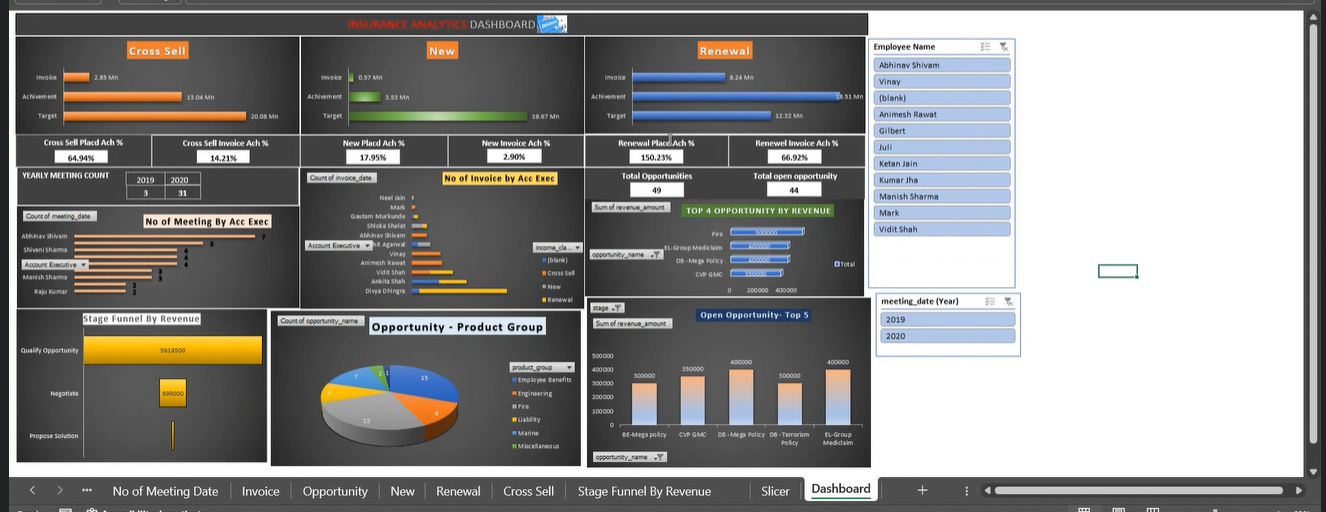

The dashboard page shown, as its layout file describes it:
{"tool":"tableau","page":{"name":"Dashboard 1","canvas":[1000,1000],"units":"permille","ordinal":0},"visuals":[{"type":"title","box":[6.9,14.7,986.1,68]},{"type":"worksheet","title":"Renewal","mark":"Automatic","box":[680.5,80.9,310,229.8]},{"type":"worksheet","title":"Cross sell","mark":"Automatic","box":[12.1,82.7,326.4,244.5]},{"type":"worksheet","title":"New","mark":"Automatic","box":[339.4,82.7,333.3,253.7]},{"type":"worksheet","title":"Renewal invoice achvmnt %","mark":"Automatic","box":[823.4,307,173.2,158.1]},{"type":"worksheet","title":"Renewal plcd achvmnt %","mark":"Automatic","box":[686.6,308.8,131.6,148.9]},{"type":"worksheet","title":"Cross sell plcd achvmnt %","mark":"Automatic","box":[6.9,358.5,150.7,167.3]},{"type":"worksheet","title":"New plcd achvmnt %","mark":"Automatic","box":[348.1,362.1,156.7,161.8]},{"type":"worksheet","title":"Cross sell Invoice Achvmnt %","mark":"Automatic","box":[159.3,364,186.2,165.4]},{"type":"worksheet","title":"New invoice achvmnt %","mark":"Automatic","box":[505.6,373.2,179.2,125]},{"type":"filter","title":"No of meeting by acc exec","param":"[federated.0fbdtgp0ams6ob1gxcx2o0gdko0a].[none:Employee Name:nk]","box":[218.2,444.9,123.8,483.5]},{"type":"worksheet","title":"opportunity by product group","mark":"Pie","rows":["Calculation_1276489070578814987","Calculation_1276489070578839564"],"box":[691.8,468.8,301.3,529.4]},{"type":"worksheet","title":"Count of meeting date","mark":"Automatic","cols":["meeting_date"],"box":[6.9,527.6,210.4,141.5]},{"type":"filter","title":"Count of meeting date","param":"[federated.0fbdtgp0ams6ob1gxcx2o0gdko0a].[yr:meeting_date:ok]","box":[226,527.6,138.5,148.9]},{"type":"worksheet","title":"open opportunity top 5","mark":"Automatic","rows":["revenue_amount"],"cols":["opportunity_name"],"box":[450.2,533.1,216.5,237.1]},{"type":"dashboard-object","box":[9.5,534.9,20.8,44.1]},{"type":"worksheet","title":"no of invoice by accnt exec","mark":"Automatic","rows":["Account Executive (invoice)"],"cols":["invoice_CEDA0D09CB2F421BAC7F811AA172FFD2"],"box":[222.5,534.9,218.2,290.4]},{"type":"worksheet","title":"No of meeting by acc exec","mark":"Automatic","rows":["Account Executive (meeting)"],"cols":["meeting_91B61A24943341F7839CF5FD6534BC1B"],"box":[0.9,672.8,219.9,329]},{"type":"dashboard-object","box":[194.8,750,20.8,44.1]},{"type":"worksheet","title":"top 4 opportunity by revenu","mark":"Automatic","rows":["opportunity_name"],"cols":["revenue_amount"],"box":[458.9,777.6,233.8,220.6]},{"type":"worksheet","title":"stage bar by revenu","mark":"Automatic","rows":["stage"],"cols":["revenue_amount"],"box":[206.9,827.2,249.3,169.1]}]}

Visuals, with their boxes on the dashboard's canvas, which has no fixed pixel size, in thousandths of its width and height (x1, y1, x2, y2). These are canvas units, not pixel positions in the 1326x512 screenshot, which may show the page scaled, cropped or inside an application window:
title: region(7, 15, 993, 83)
"Renewal" worksheet: region(680, 81, 990, 311)
"Cross sell" worksheet: region(12, 83, 338, 327)
"New" worksheet: region(339, 83, 673, 336)
"Renewal invoice achvmnt %" worksheet: region(823, 307, 997, 465)
"Renewal plcd achvmnt %" worksheet: region(687, 309, 818, 458)
"Cross sell plcd achvmnt %" worksheet: region(7, 358, 158, 526)
"New plcd achvmnt %" worksheet: region(348, 362, 505, 524)
"Cross sell Invoice Achvmnt %" worksheet: region(159, 364, 346, 529)
"New invoice achvmnt %" worksheet: region(506, 373, 685, 498)
"No of meeting by acc exec" filter: region(218, 445, 342, 928)
"opportunity by product group" worksheet (Pie marks): region(692, 469, 993, 998)
"Count of meeting date" worksheet: region(7, 528, 217, 669)
"Count of meeting date" filter: region(226, 528, 364, 676)
"open opportunity top 5" worksheet: region(450, 533, 667, 770)
dashboard-object: region(10, 535, 30, 579)
"no of invoice by accnt exec" worksheet: region(222, 535, 441, 825)
"No of meeting by acc exec" worksheet: region(1, 673, 221, 1002)
dashboard-object: region(195, 750, 216, 794)
"top 4 opportunity by revenu" worksheet: region(459, 778, 693, 998)
"stage bar by revenu" worksheet: region(207, 827, 456, 996)
